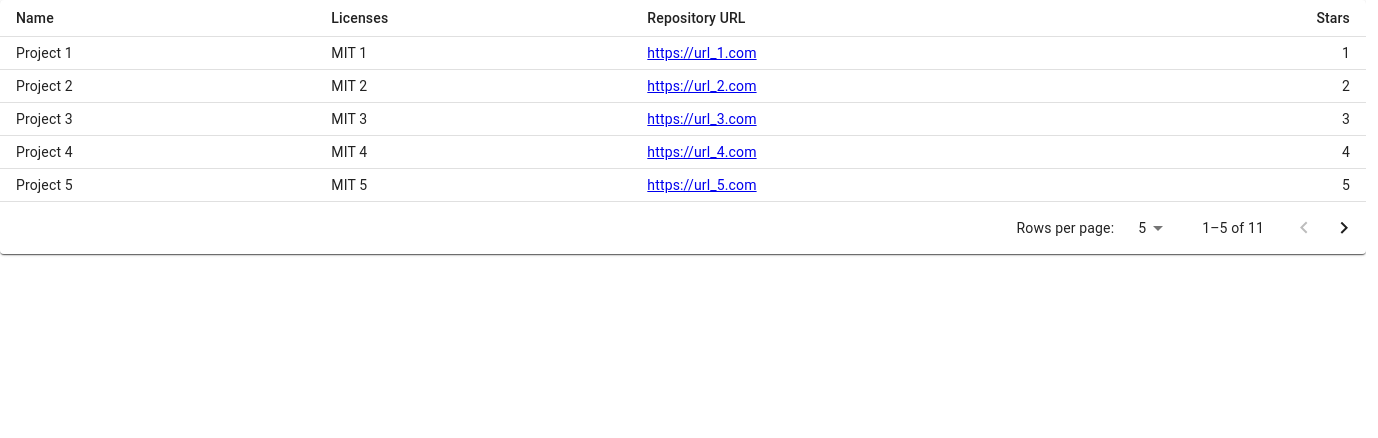
Scenario: Project Component › changes the projects table data on pagination change
Expected: the text "Project 1" is shown, left=0, top=36, right=315, bottom=70
Expected: the text "Project 10" is not shown
Press the mouse on the dropdown at x=1142, y=228, box left=1138, top=220, right=1146, bottom=236
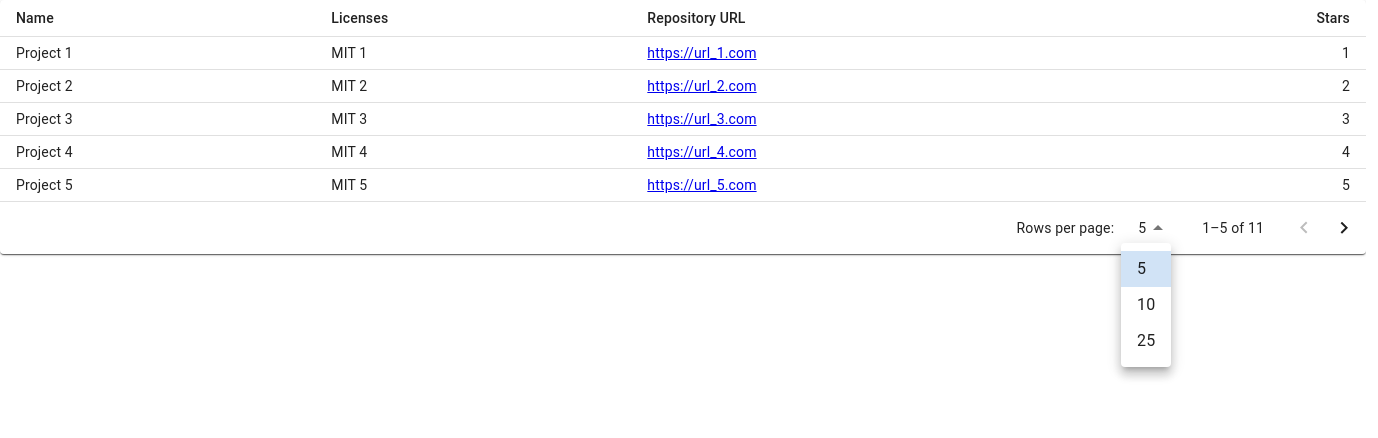
Click the option "10". click: x=1146, y=304
box: left=1137, top=295, right=1155, bottom=314
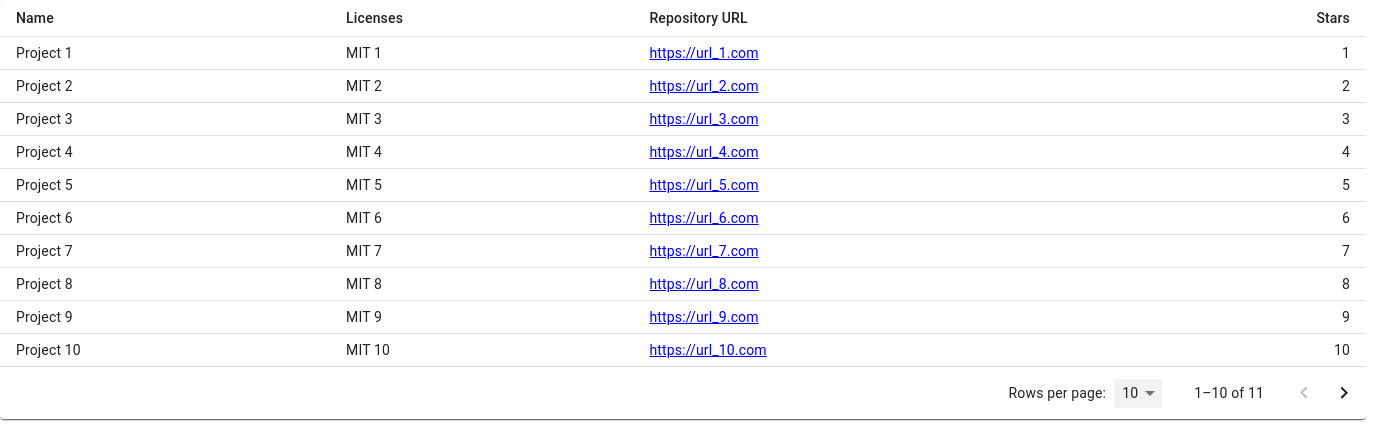
Expected: the text "Project 10" is shown, left=0, top=334, right=330, bottom=367
